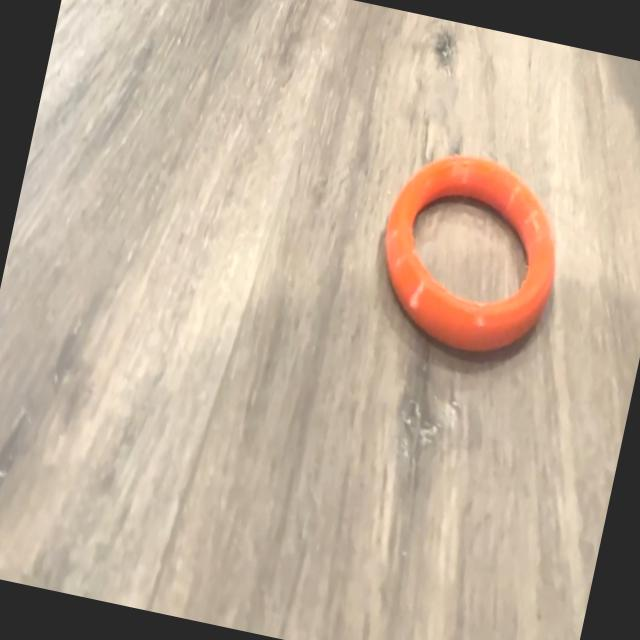note: (364, 136, 576, 372)
